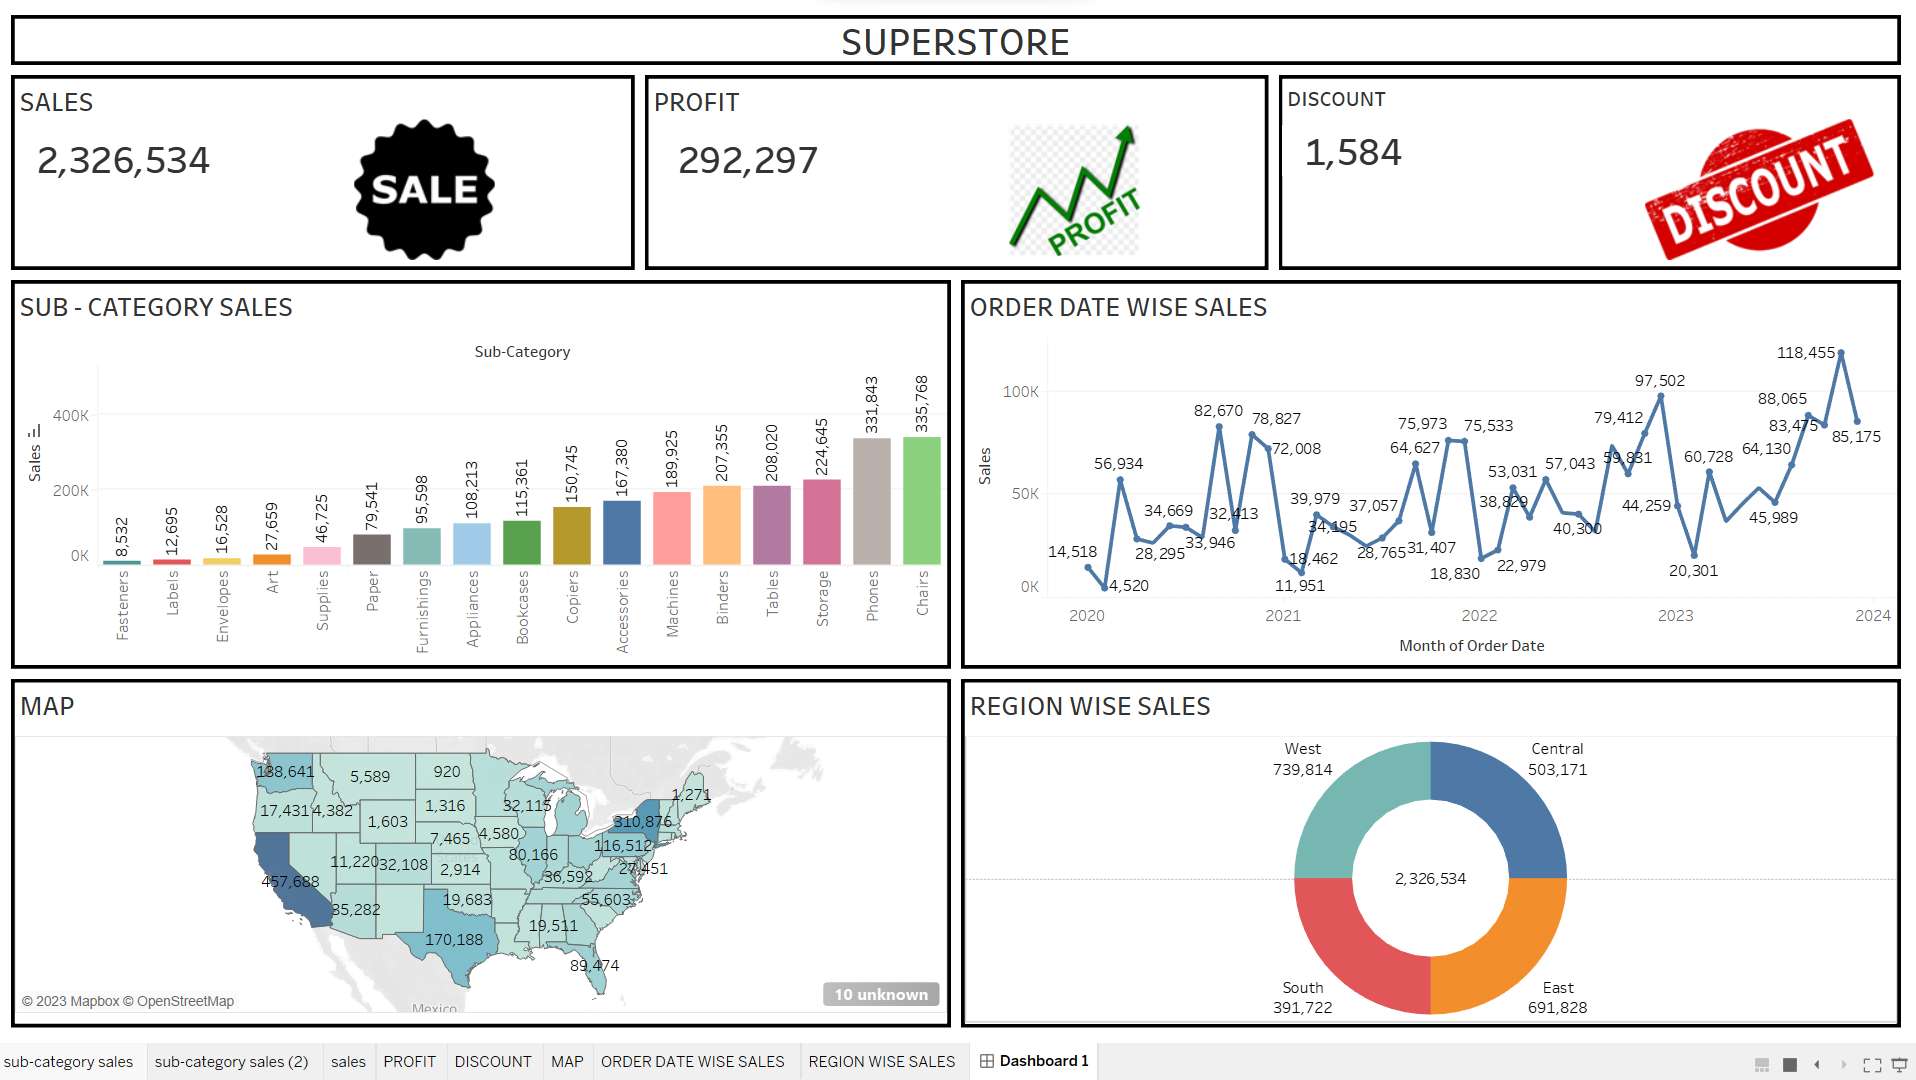

The dashboard page shown, as its layout file describes it:
{"tool":"tableau","page":{"name":"Dashboard 1","canvas":[1000,1000],"units":"permille","ordinal":0},"visuals":[{"type":"title","box":[6,11.8,987.9,70.7]},{"type":"worksheet","title":"sales","mark":"Automatic","box":[6,82.5,329.8,192.9]},{"type":"worksheet","title":"PROFIT","mark":"Automatic","box":[335.9,82.5,329.1,192.9]},{"type":"worksheet","title":"DISCOUNT","mark":"Automatic","box":[664.9,82.5,329.1,192.9]},{"type":"image","param":"C:/Users/PRANAV/OneDrive/Desktop/TABLEAU DOCUMENTS/02-05-2023 DASHBOARD PRACTICE","box":[186.4,113.4,146.4,135.5]},{"type":"image","param":"C:/Users/PRANAV/OneDrive/Desktop/TABLEAU DOCUMENTS/02-05-2023 DASHBOARD PRACTICE","box":[858.9,113.4,129.8,135.5]},{"type":"image","param":"C:/Users/PRANAV/OneDrive/Desktop/TABLEAU DOCUMENTS/02-05-2023 DASHBOARD PRACTICE","box":[527.5,119.3,124.5,126.7]},{"type":"worksheet","title":"sub-category sales","mark":"Automatic","rows":["Sales"],"cols":["Sub-Category"],"box":[6,275.4,494.3,375.6]},{"type":"worksheet","title":"ORDER DATE WISE SALES","mark":"Automatic","rows":["Sales"],"cols":["Order Date"],"box":[500.4,275.4,493.6,375.6]},{"type":"worksheet","title":"MAP","mark":"Automatic","box":[6,651,494.3,337.3]},{"type":"worksheet","title":"REGION WISE SALES","mark":"Pie","rows":["Calculation_1823957871089987584","Calculation_1823957871089987584"],"box":[500.4,651,493.6,337.3]}]}

Visuals, with their boxes on the dashboard's canvas, which has no fixed pixel size, in thousandths of its width and height (x1, y1, x2, y2). These are canvas units, not pixel positions in the 1916x1080 screenshot, which may show the page scaled, cropped or inside an application window:
title: (x1=6, y1=12, x2=994, y2=82)
"sales" worksheet: (x1=6, y1=82, x2=336, y2=275)
"PROFIT" worksheet: (x1=336, y1=82, x2=665, y2=275)
"DISCOUNT" worksheet: (x1=665, y1=82, x2=994, y2=275)
image: (x1=186, y1=113, x2=333, y2=249)
image: (x1=859, y1=113, x2=989, y2=249)
image: (x1=528, y1=119, x2=652, y2=246)
"sub-category sales" worksheet: (x1=6, y1=275, x2=500, y2=651)
"ORDER DATE WISE SALES" worksheet: (x1=500, y1=275, x2=994, y2=651)
"MAP" worksheet: (x1=6, y1=651, x2=500, y2=988)
"REGION WISE SALES" worksheet (Pie marks): (x1=500, y1=651, x2=994, y2=988)
